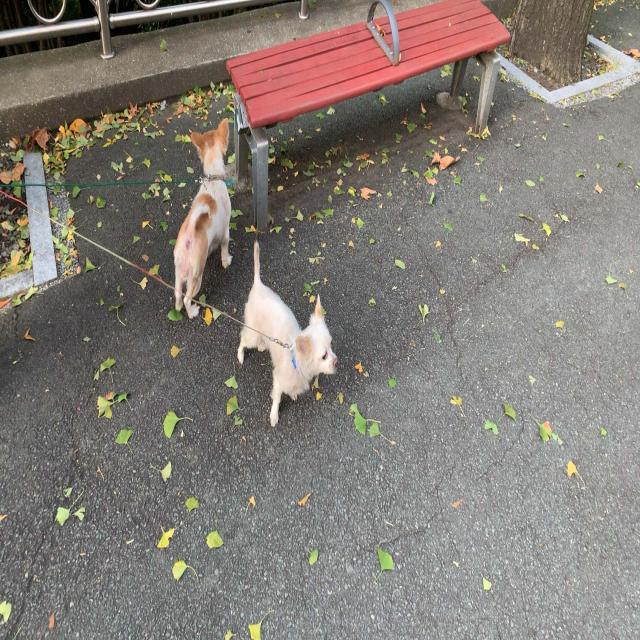Dog: (237, 240, 339, 430), (173, 116, 233, 320)
